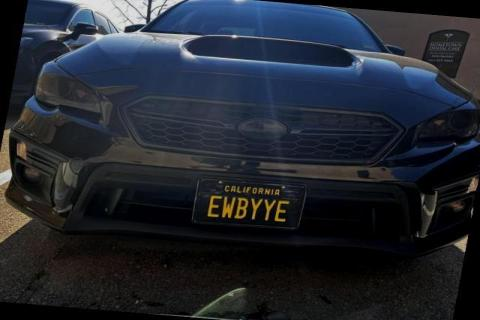LicensePlate: (188, 174, 306, 230)
